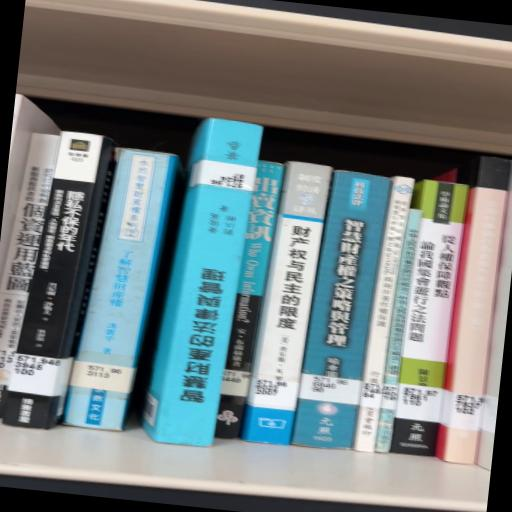reverse: (143, 120, 264, 447)
